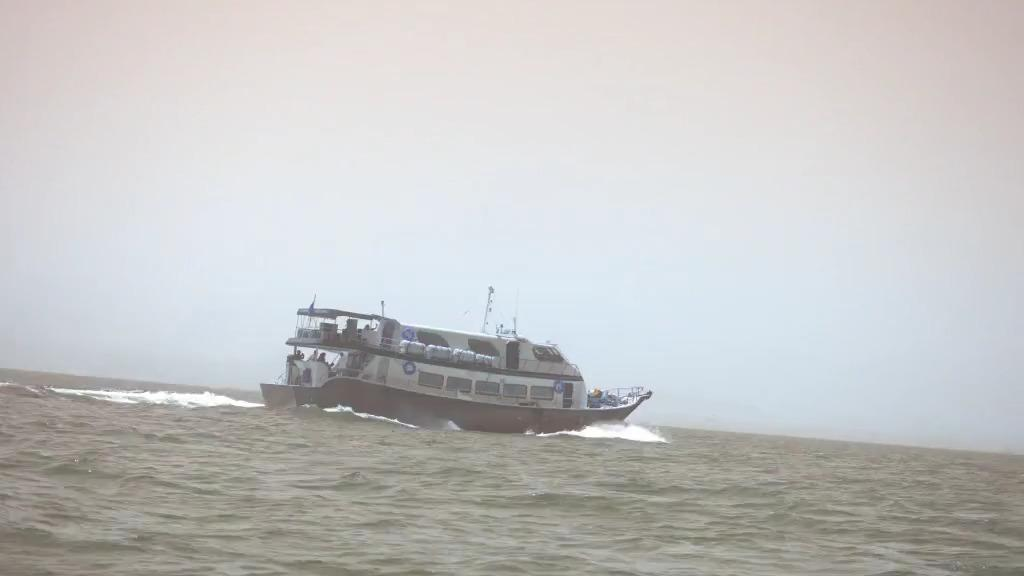PassengerShip: (258, 267, 656, 437)
